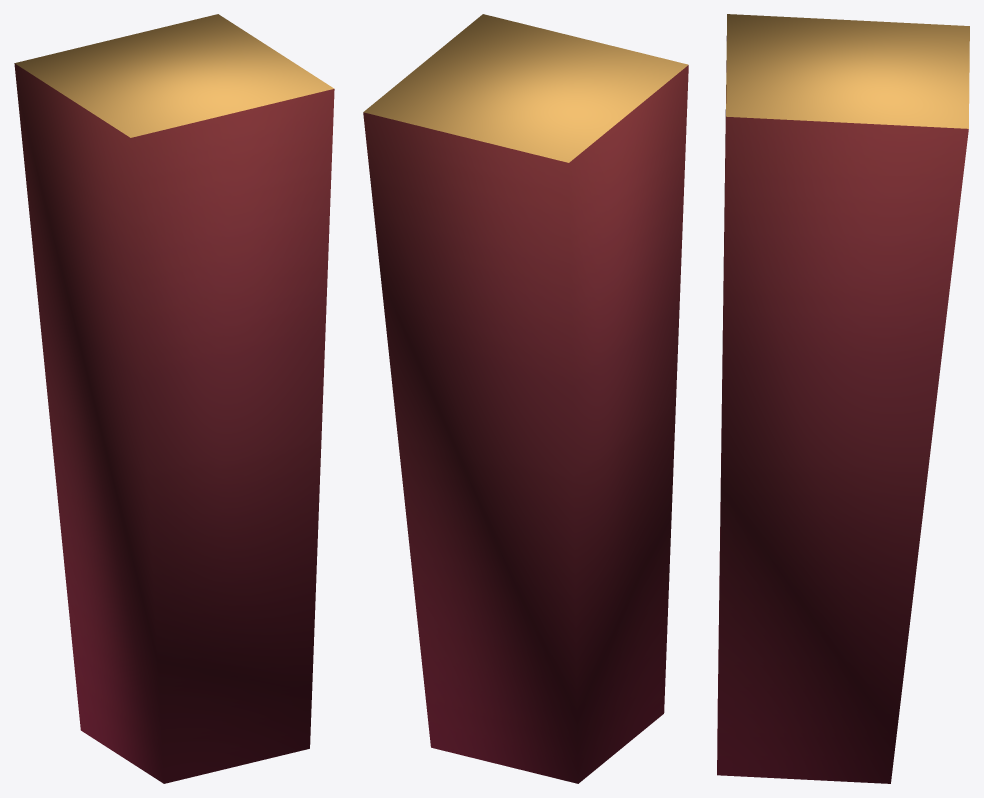
The model's file is fence-end1.fbx.
3 views of the same model, side by side, from view 1: azimuth 30°, elevation 25°; view 2: azimuth 150°, elevation 25°; view 3: azimuth 270°, elevation 25° (orthographic). The views are drawn at different scales.
Visible parts, largest first — view 1: Cylinder.019; view 2: Cylinder.019; view 3: Cylinder.019.
Part boxes in pixels (bbox=[...]): Cylinder.019: bbox=[14, 14, 334, 783]; Cylinder.019: bbox=[363, 14, 688, 783]; Cylinder.019: bbox=[717, 14, 969, 783].
Bounding box in the file's own units: 4.03 × 12.41 × 4.17.
